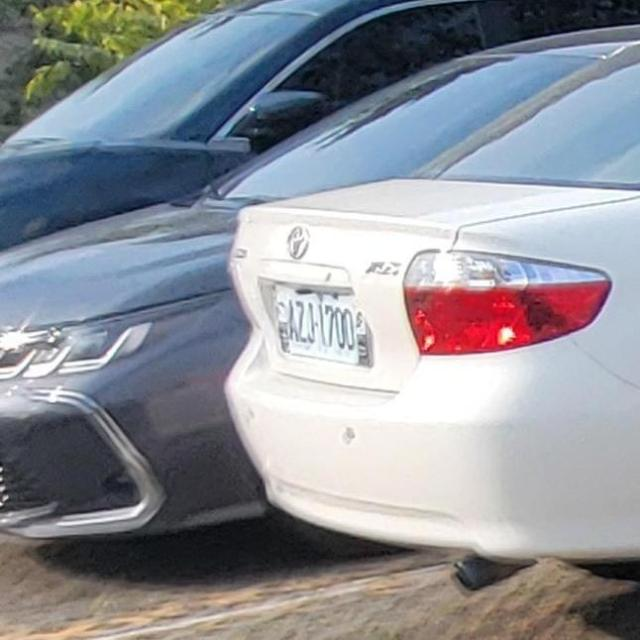W: (272, 276, 374, 374)
